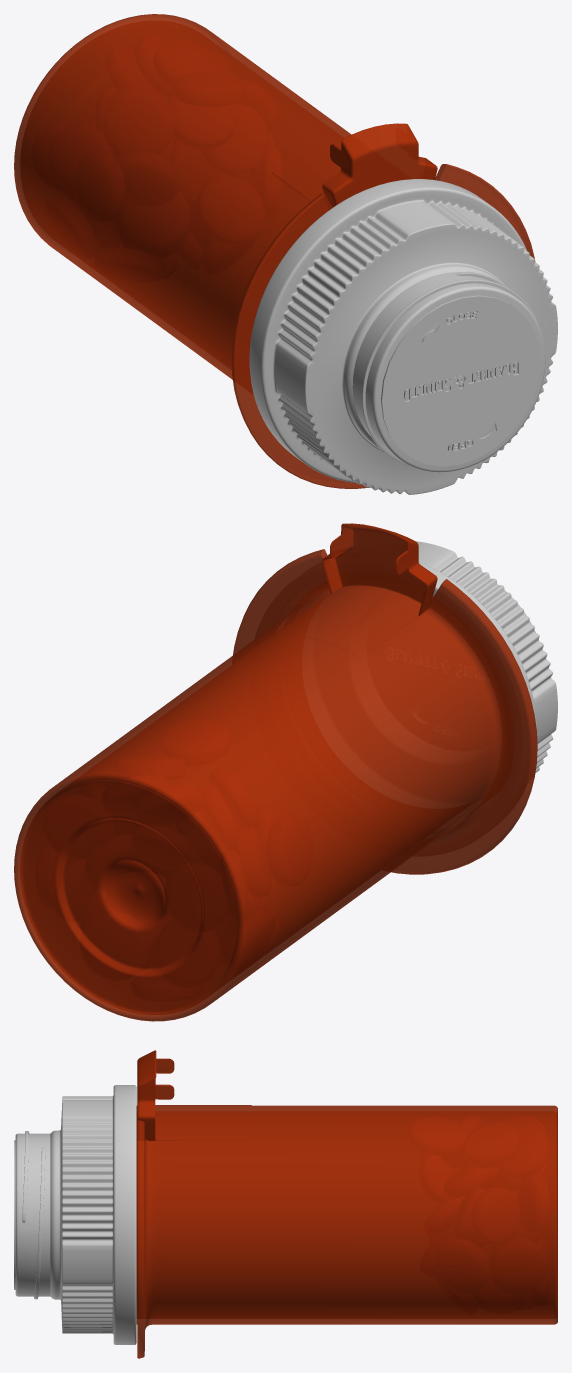
File: PillBottleASCII.FBX
The picture shows the model from 3 angles, top to bottom: view 1: azimuth 30°, elevation 25°; view 2: azimuth 150°, elevation 25°; view 3: azimuth 270°, elevation 25°; orthographic projection. The views are drawn at different scales.
Visible parts, largest first — view 1: pillBottleBody, pillBodyCap, Shape13; view 2: pillBottleBody, pillBodyCap; view 3: pillBottleBody, pillBodyCap.
Part boxes in pixels (bbox=[...]): pillBottleBody: bbox=[14, 14, 535, 488]; pillBodyCap: bbox=[249, 179, 557, 494]; Shape13: bbox=[381, 295, 540, 466]; pillBottleBody: bbox=[14, 523, 537, 1021]; pillBodyCap: bbox=[416, 541, 557, 772]; pillBottleBody: bbox=[136, 1050, 557, 1358]; pillBodyCap: bbox=[15, 1085, 136, 1344].
Size of the model in its own units: 783 by 860 by 1480.
